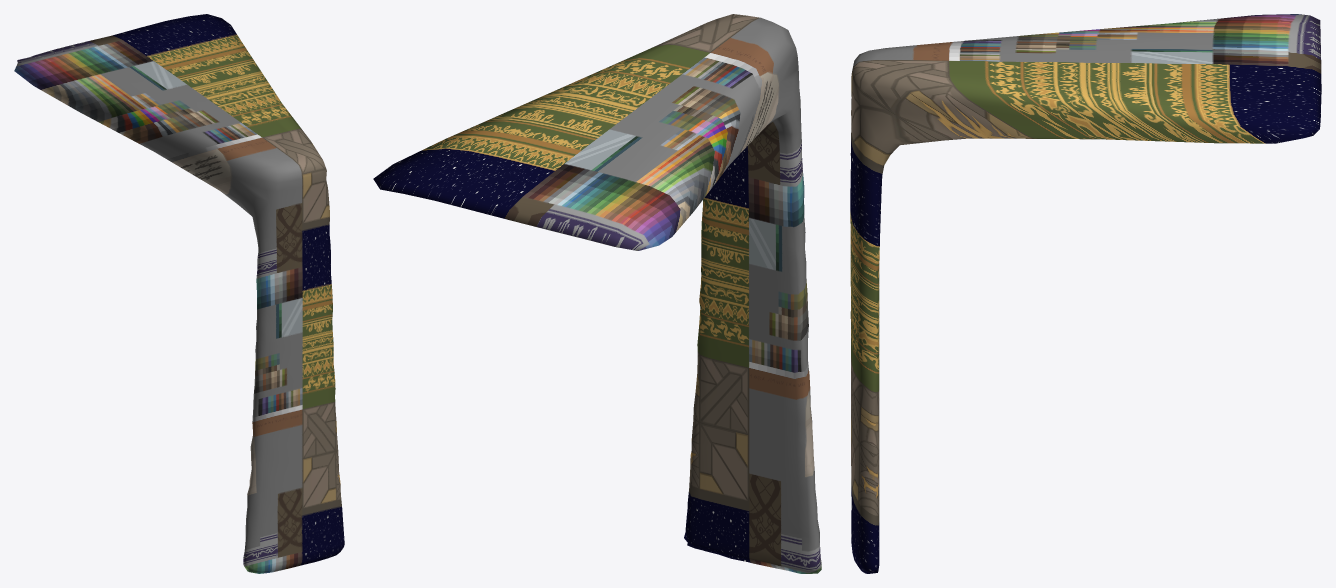
File: elven_SM_Env_Water_Plane_Waterfall_03.gltf
The picture shows the model from 3 angles, left to right: view 1: azimuth 30°, elevation 25°; view 2: azimuth 150°, elevation 25°; view 3: azimuth 270°, elevation 25°; orthographic projection. The views are drawn at different scales.
Visible parts, largest first — view 1: SM_Env_Water_Plane_Waterfall_03; view 2: SM_Env_Water_Plane_Waterfall_03; view 3: SM_Env_Water_Plane_Waterfall_03.
Part boxes in pixels (x1,y1,x2,y2): SM_Env_Water_Plane_Waterfall_03: (14, 14, 344, 573); SM_Env_Water_Plane_Waterfall_03: (373, 14, 821, 573); SM_Env_Water_Plane_Waterfall_03: (850, 14, 1321, 573).
Bounding box in the file's own units: 17.69 × 32.43 × 28.29.
Materials: 1 (1 with a texture image).
